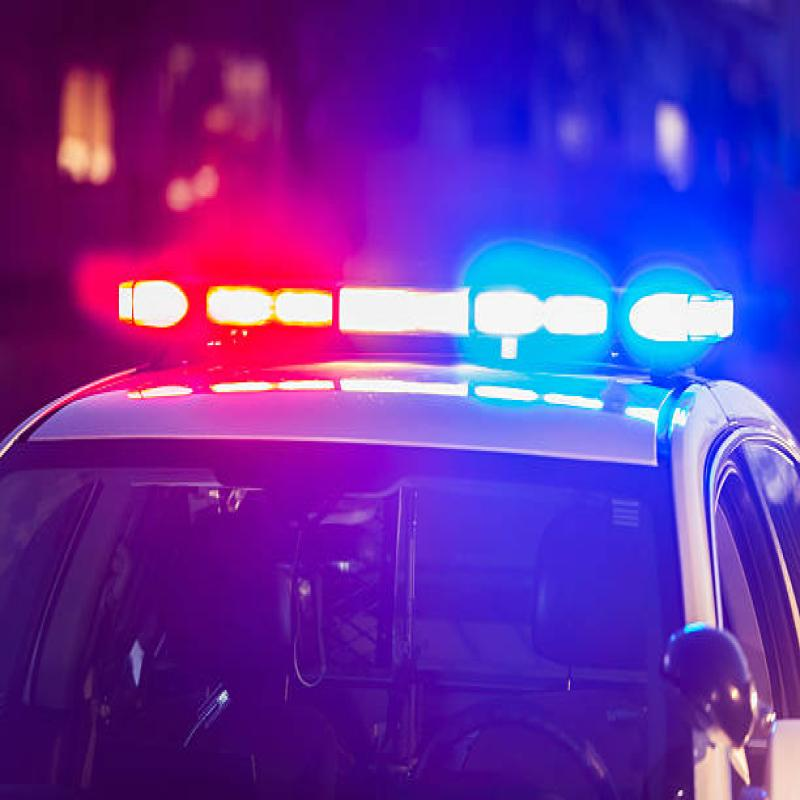AmbulanceSiren: (86, 225, 742, 391)
